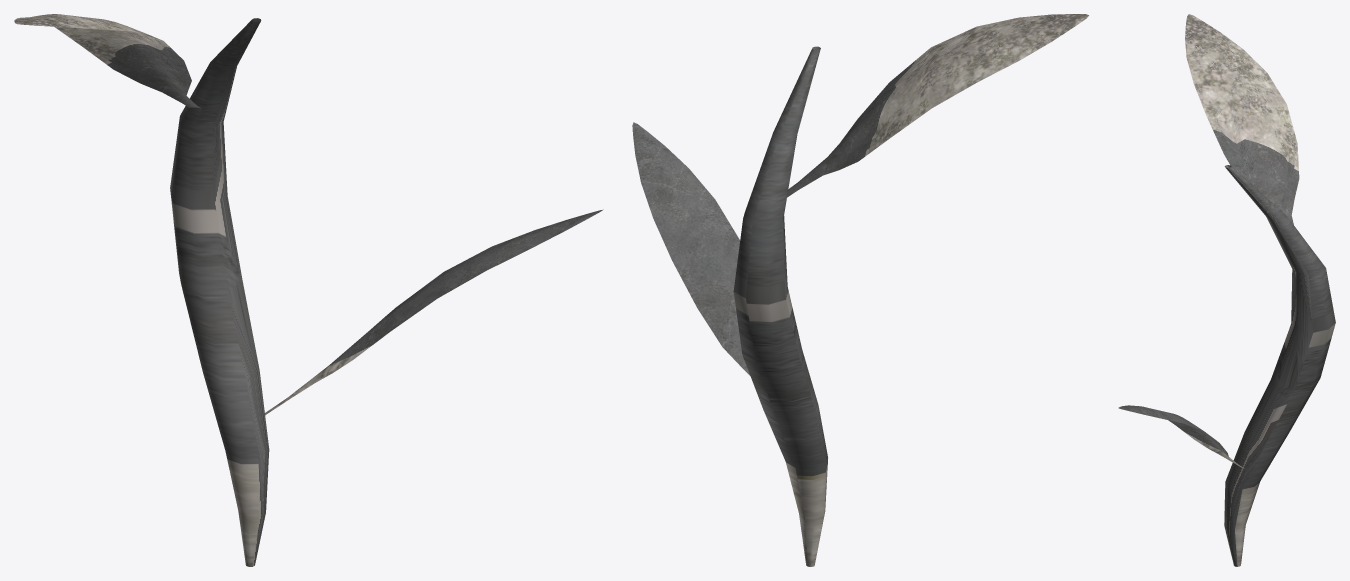
The model's file is Yuri2.fbx.
3 views of the same model, side by side, from view 1: azimuth 30°, elevation 25°; view 2: azimuth 150°, elevation 25°; view 3: azimuth 270°, elevation 25° (orthographic). The views are drawn at different scales.
Visible parts, largest first — view 1: Yuri, Yuri.002; view 2: Yuri.002, Yuri; view 3: Yuri, Yuri.002.
Boxes of the visible parts, box(x1,y1,x2,y2) form: Yuri: box(170, 18, 269, 566); Yuri.002: box(14, 14, 603, 415); Yuri.002: box(632, 14, 1088, 375); Yuri: box(733, 46, 827, 566); Yuri: box(1224, 165, 1335, 566); Yuri.002: box(1118, 14, 1299, 468).
Bounding box in the file's own units: 670 × 751 × 324.
